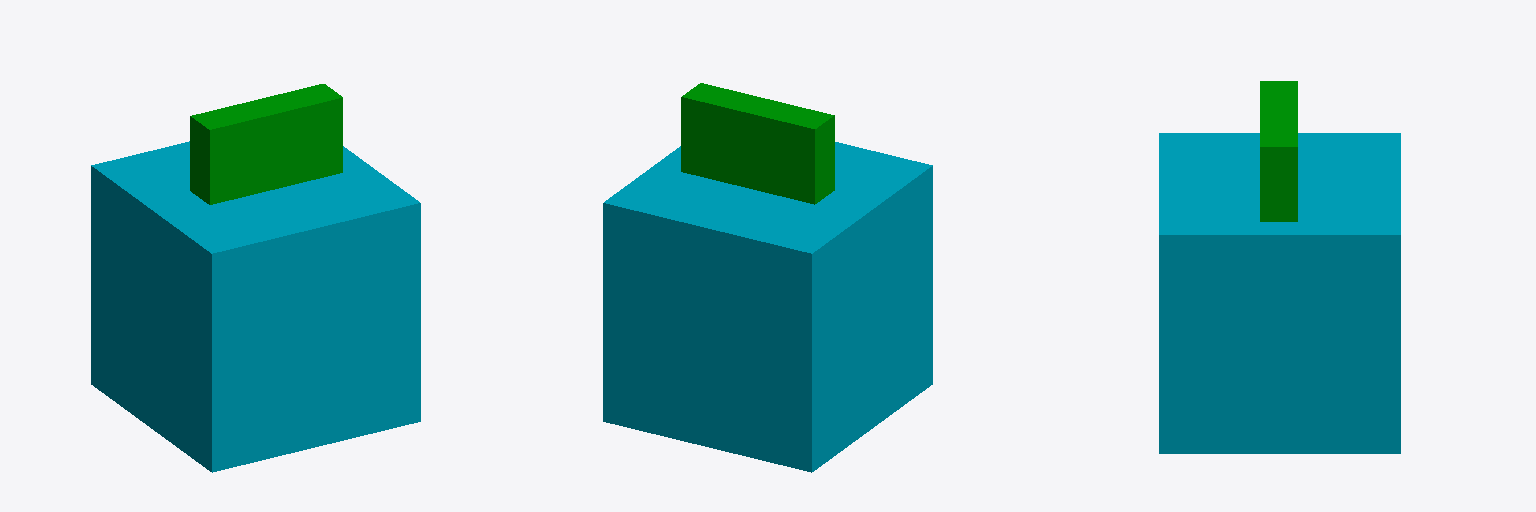
Rendered from refraction.obj.
3 views of the same model, side by side, from view 1: azimuth 30°, elevation 25°; view 2: azimuth 150°, elevation 25°; view 3: azimuth 270°, elevation 25° (orthographic).
Parts seen in each view (by area): view 1: Cube, Cube.001_Cube.002; view 2: Cube, Cube.001_Cube.002; view 3: Cube, Cube.001_Cube.002.
Part boxes in pixels (left/top/right/bottom): Cube: left=91, top=141, right=420, bottom=472; Cube.001_Cube.002: left=190, top=84, right=342, bottom=204; Cube: left=603, top=142, right=932, bottom=472; Cube.001_Cube.002: left=681, top=83, right=834, bottom=204; Cube: left=1159, top=133, right=1400, bottom=453; Cube.001_Cube.002: left=1260, top=81, right=1297, bottom=221.
Size of the model in its own units: 2 by 2.69 by 2.